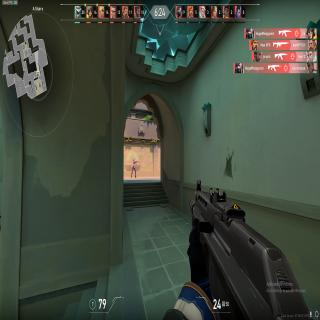ENEMY-BODY: (132, 158, 136, 178)
ENEMY-HEAD: (133, 158, 135, 162)
